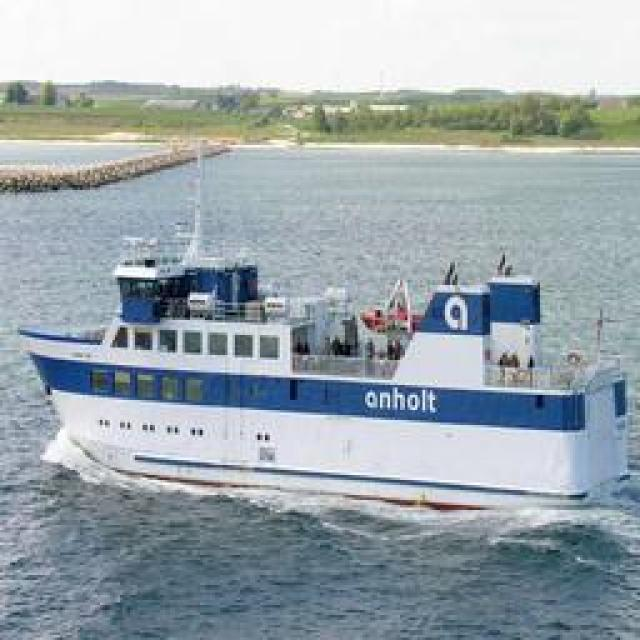ship2: (20, 243, 632, 514)
